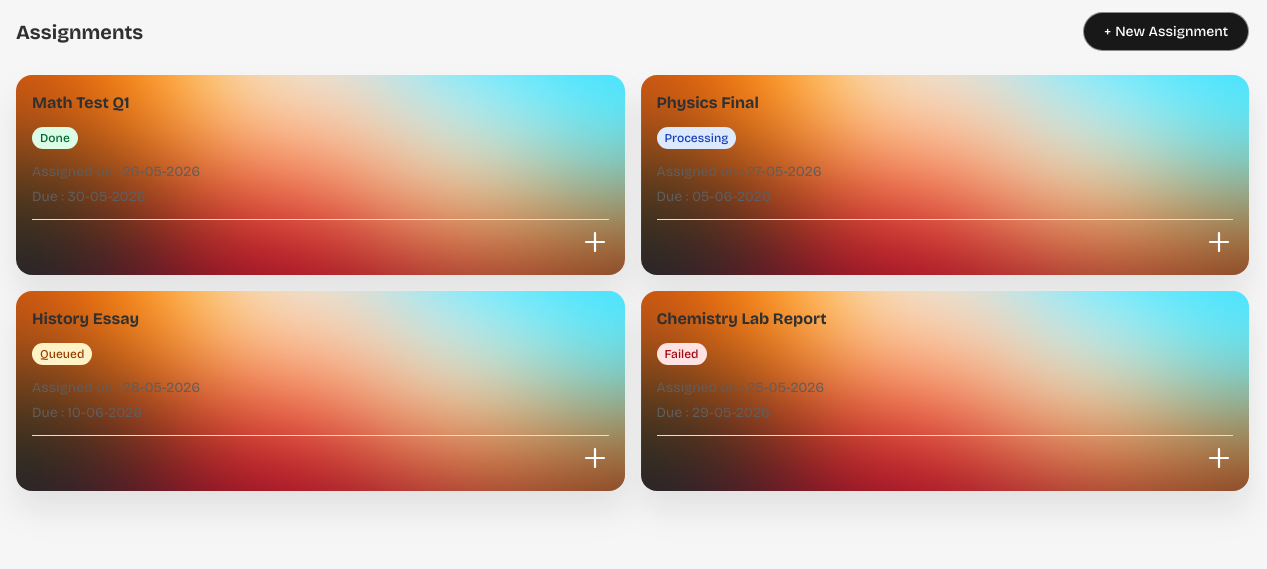
Test: AssignmentsList — user interactions › displays delete error when delete fails
Click the button named "Assignment options: Math Test Q1". click: click(594, 242)
box: [580, 228, 608, 256]
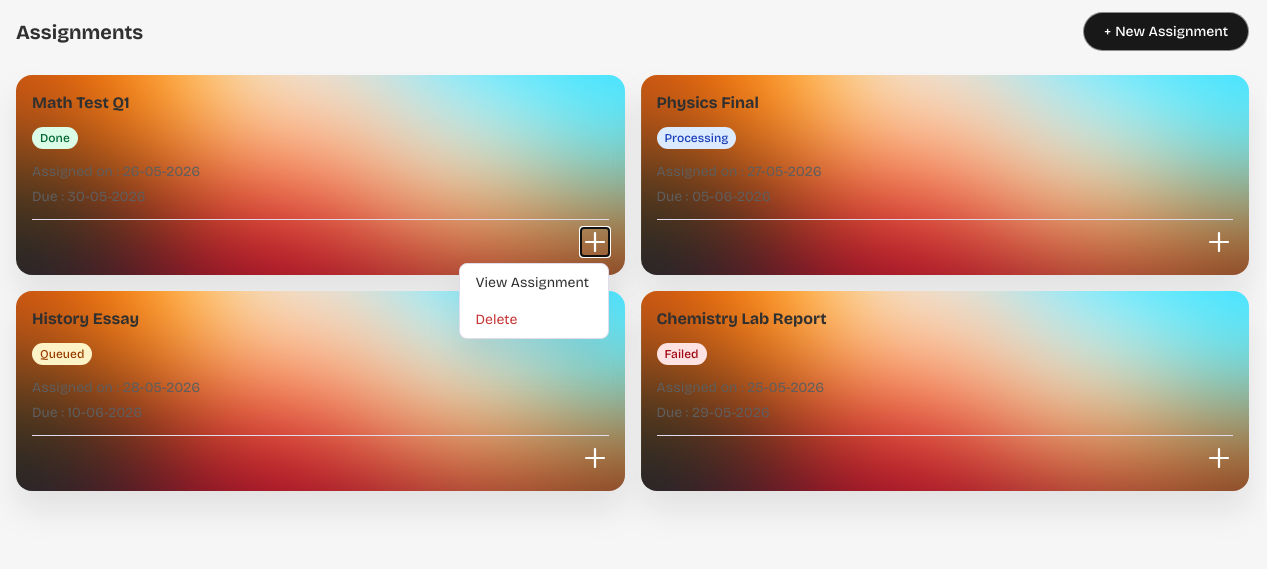
Click the menu item "Delete". click: click(534, 320)
box: [460, 301, 608, 338]
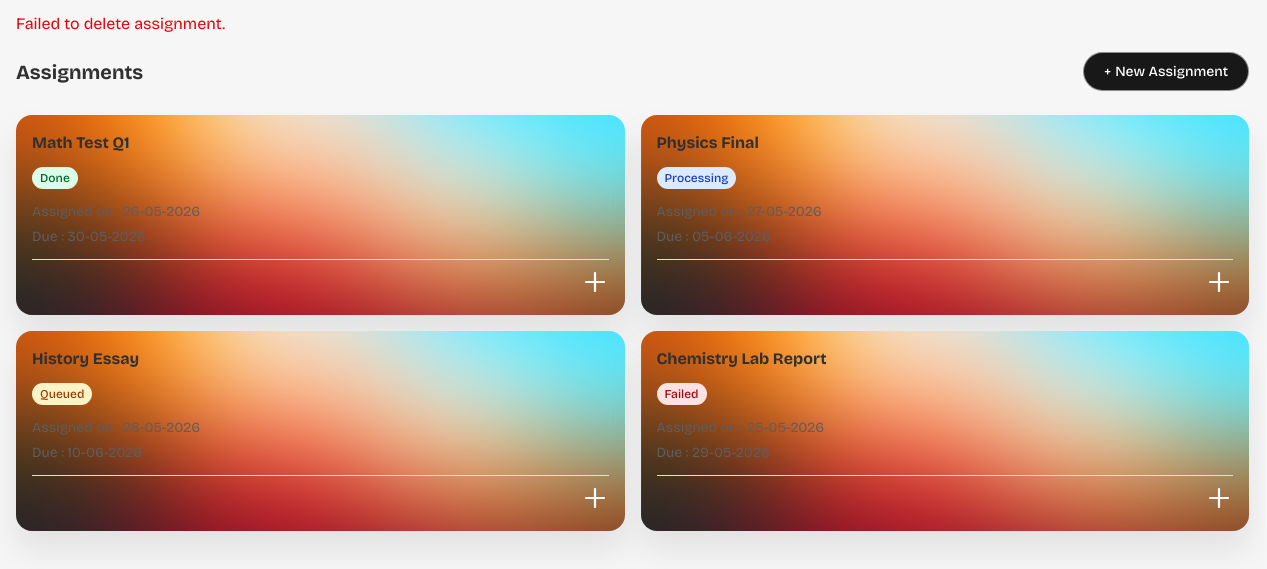
Result: the message "Failed to delete assignment." is shown at [16, 14, 225, 33]
